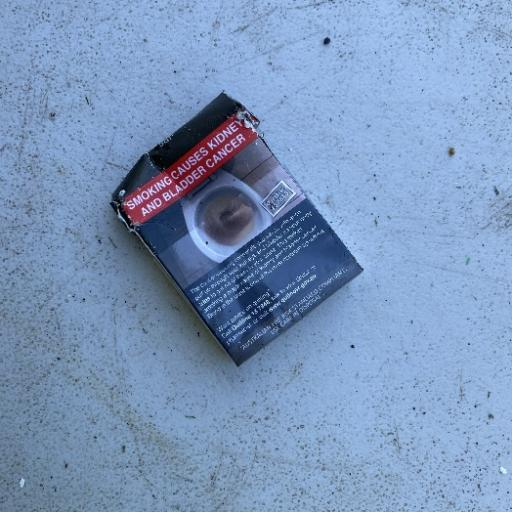Cardboard: (108, 89, 364, 368)
